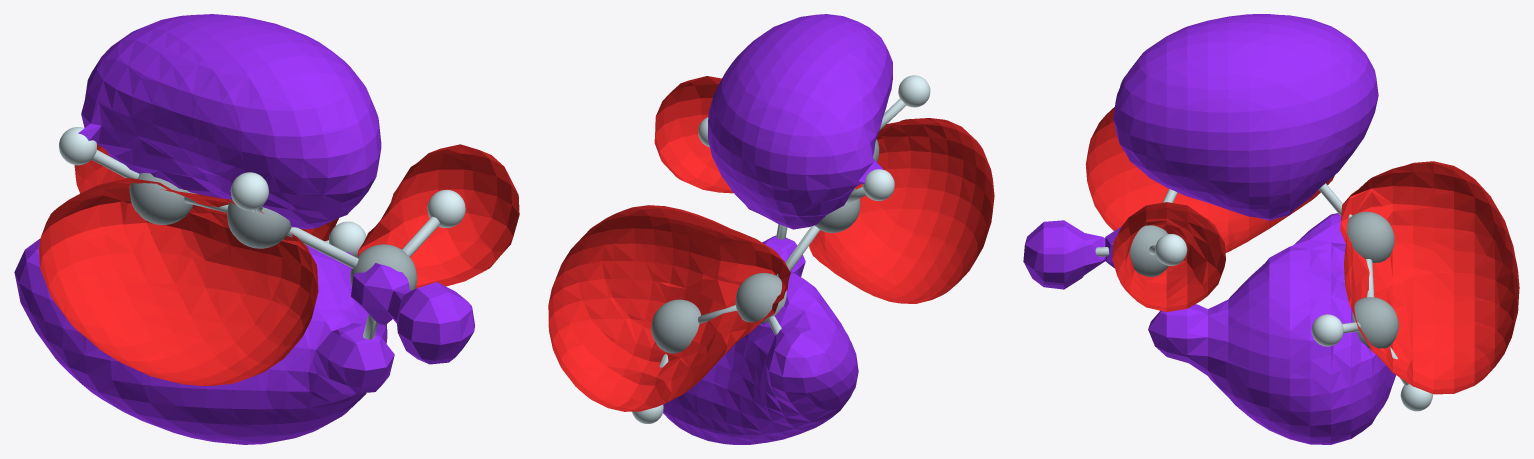
The picture shows the model from 3 angles, left to right: view 1: azimuth 30°, elevation 25°; view 2: azimuth 150°, elevation 25°; view 3: azimuth 270°, elevation 25°; orthographic projection. The views are drawn at different scales.
Parts seen in each view (by area): view 1: Renderer Node; view 2: Renderer Node; view 3: Renderer Node.
Boxes of the visible parts, <box> form: Renderer Node: <box>14,14,519,444</box>; Renderer Node: <box>548,14,994,444</box>; Renderer Node: <box>1023,14,1519,444</box>.
Bounding box in the file's own units: 4.92 × 5.23 × 6.15.
